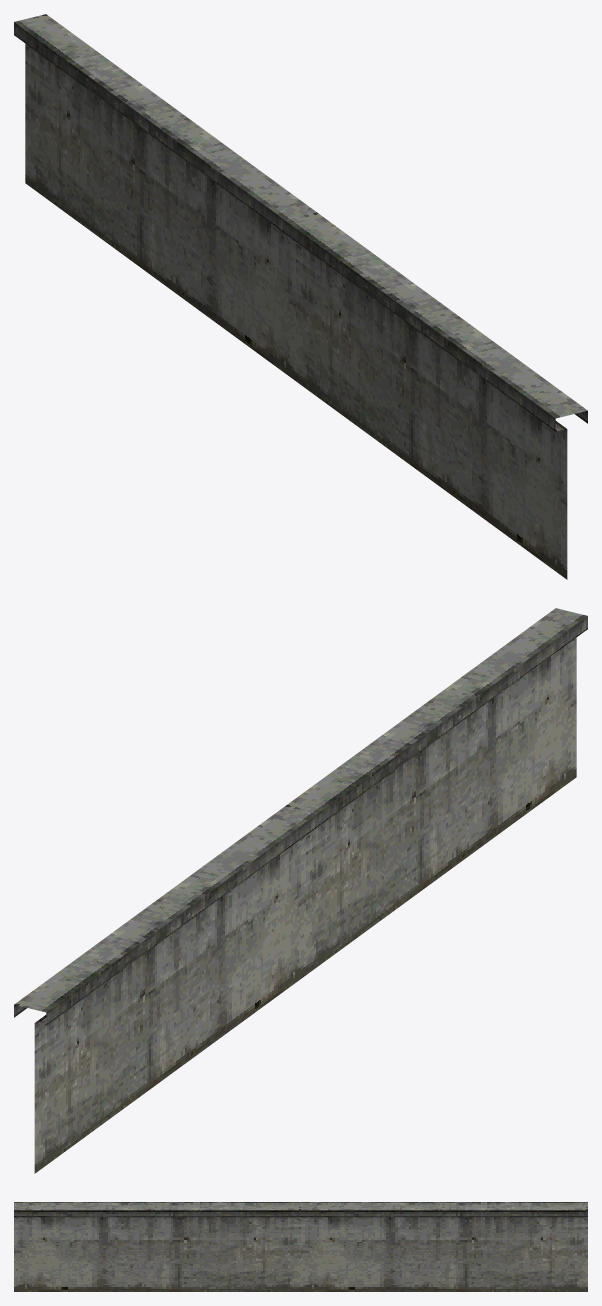
The model's file is concrete_miniwall_long.glb.
The picture shows the model from 3 angles, top to bottom: view 1: azimuth 30°, elevation 25°; view 2: azimuth 150°, elevation 25°; view 3: azimuth 270°, elevation 25°; orthographic projection. The views are drawn at different scales.
Visible parts, largest first — view 1: Concrete_miniwall_long; view 2: Concrete_miniwall_long; view 3: Concrete_miniwall_long.
Boxes of the visible parts, <box> form: Concrete_miniwall_long: <box>14,14,587,579</box>; Concrete_miniwall_long: <box>14,608,587,1173</box>; Concrete_miniwall_long: <box>14,1202,587,1291</box>.
Size of the model in its own units: 0.3428 by 1.67 by 10.
Materials: 1 (1 with a texture image).
